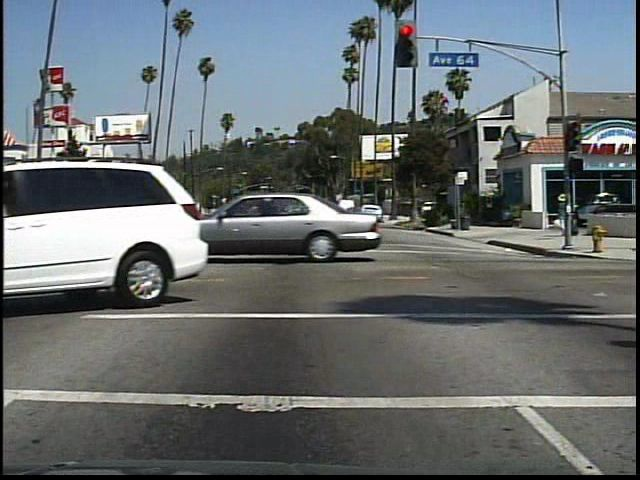person: (551, 189, 577, 236)
